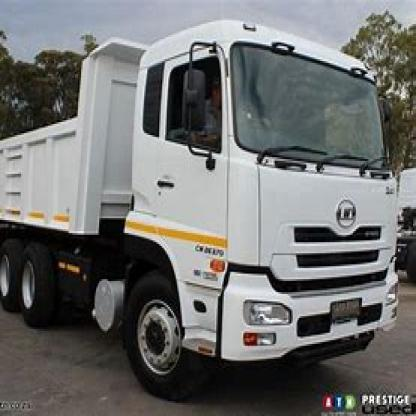dump_truck: (3, 11, 413, 388)
